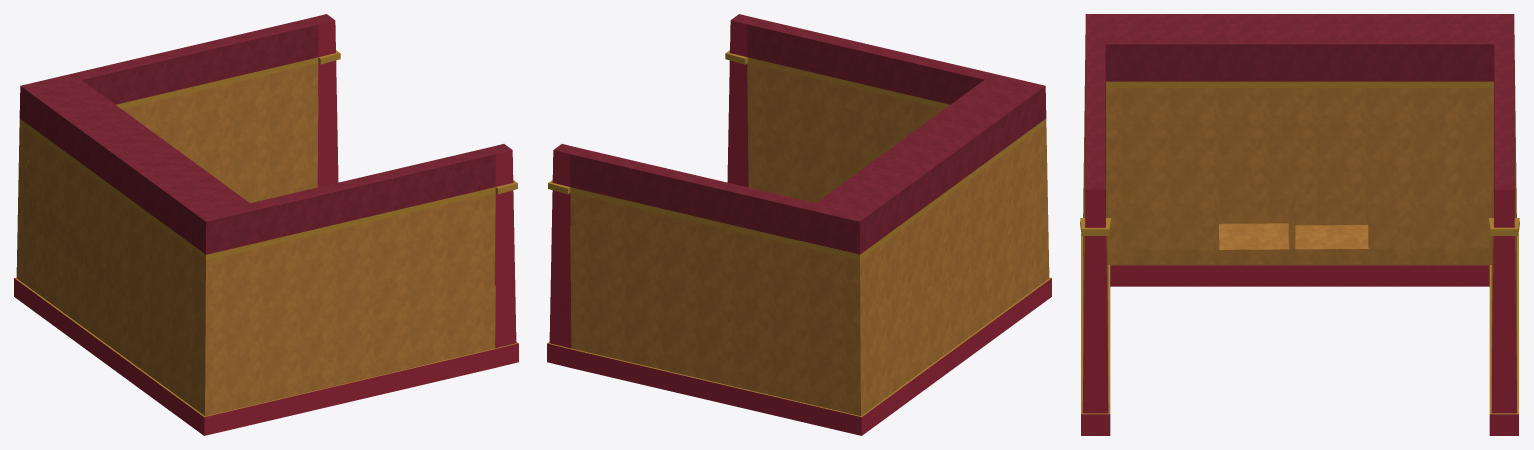
Rendered from SweetShopV2_ChangedWalls.fbx.
The picture shows the model from 3 angles, left to right: view 1: azimuth 30°, elevation 25°; view 2: azimuth 150°, elevation 25°; view 3: azimuth 270°, elevation 25°; orthographic projection. The views are drawn at different scales.
Parts seen in each view (by area): view 1: Cube.013, Cube.014; view 2: Cube.013, Cube.014; view 3: Cube.013, Cube.014.
Part boxes in pixels (x1,y1,x2,y2): Cube.013: (20,78,518,435); Cube.014: (14,14,340,304); Cube.013: (725,14,1051,429); Cube.014: (547,144,874,435); Cube.013: (1080,14,1500,435); Cube.014: (1488,14,1519,435).
Bounding box in the file's own units: 813 × 530 × 853.
Materials: 9 (9 with a texture image).
